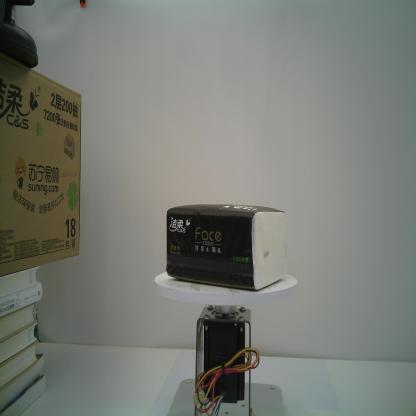Tissue: (165, 202, 288, 290)
